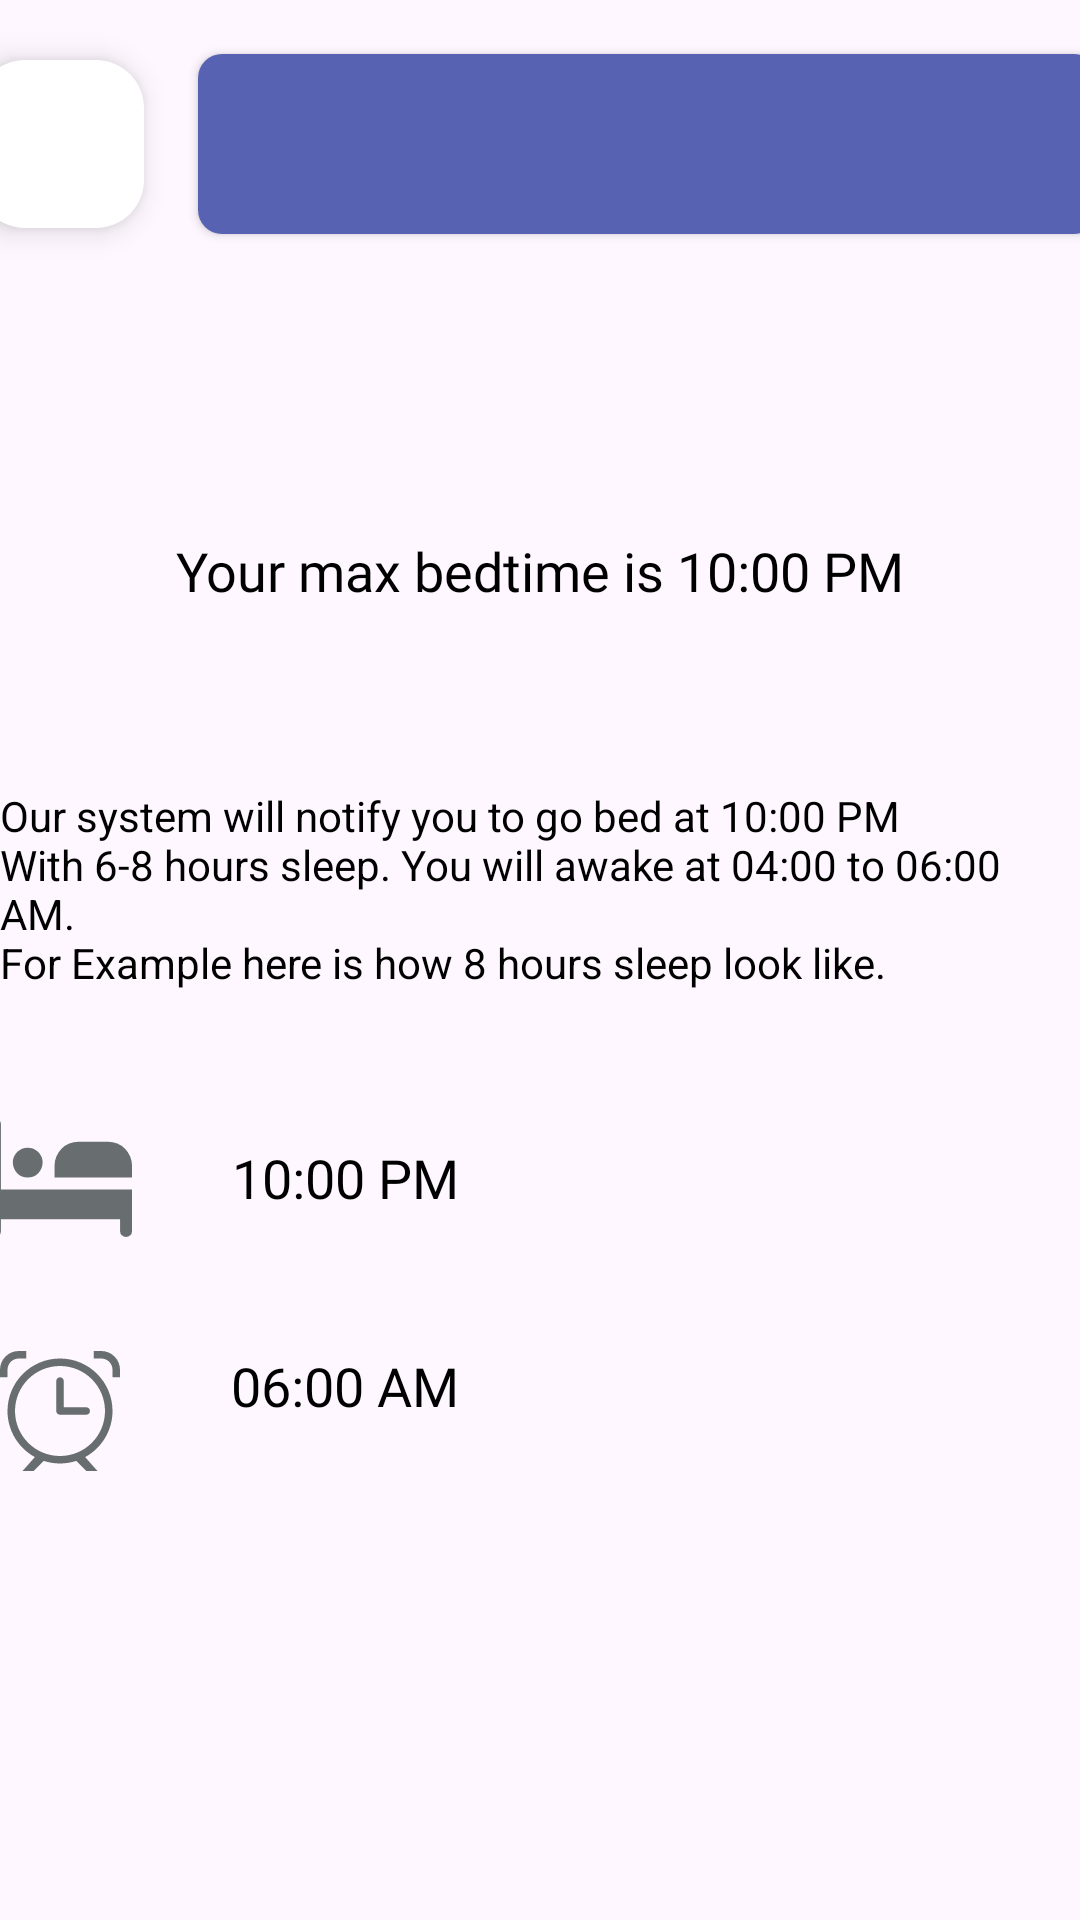

Icon click points for this 1080x1920 phone screenshot, format (x,y):
alarm: (60,1411)
